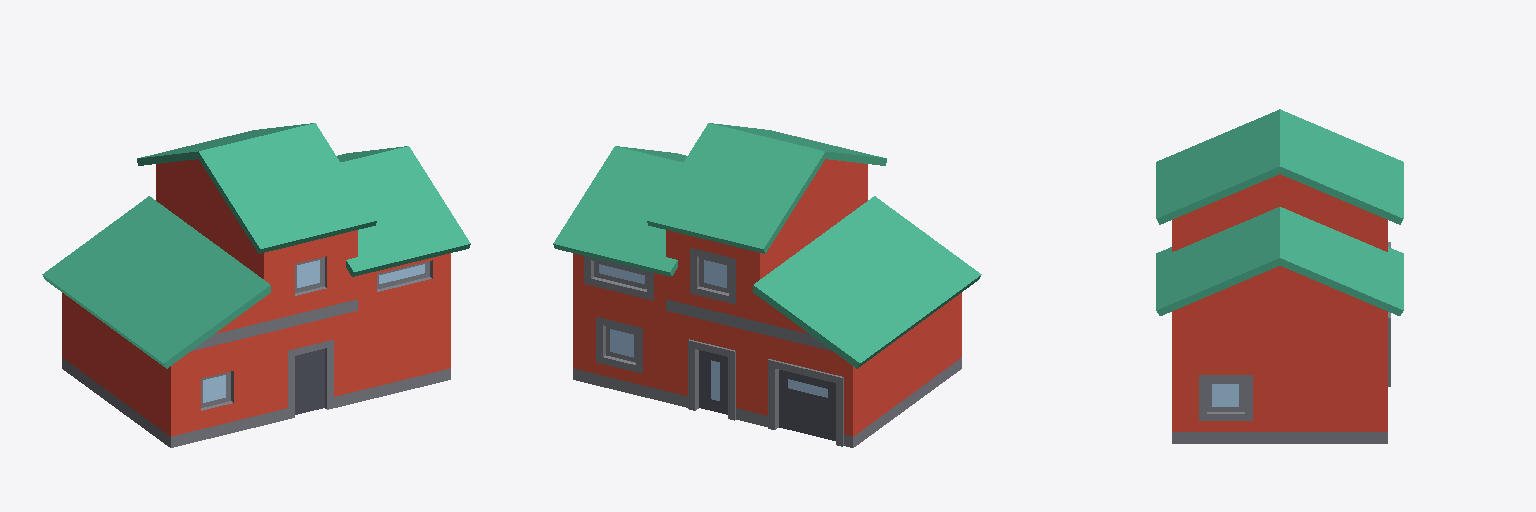
File: city_house_i.obj
3 renders of one model, left to right at view 1: azimuth 30°, elevation 25°; view 2: azimuth 150°, elevation 25°; view 3: azimuth 270°, elevation 25°, orthographic.
Parts seen in each view (by area): view 1: mergedBlocks; view 2: mergedBlocks; view 3: mergedBlocks.
Part boxes in pixels (x1,y1,x2,y2): mergedBlocks: (42, 123, 470, 447); mergedBlocks: (553, 123, 981, 447); mergedBlocks: (1156, 109, 1403, 443).
Bounding box in the file's own units: 0.8372 × 0.6201 × 0.5864.